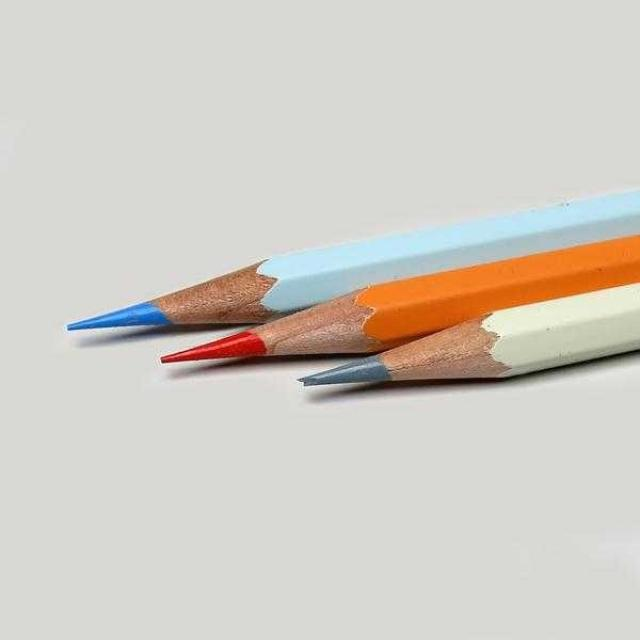pencil: (49, 144, 639, 340), (135, 218, 639, 373), (275, 266, 639, 401)
